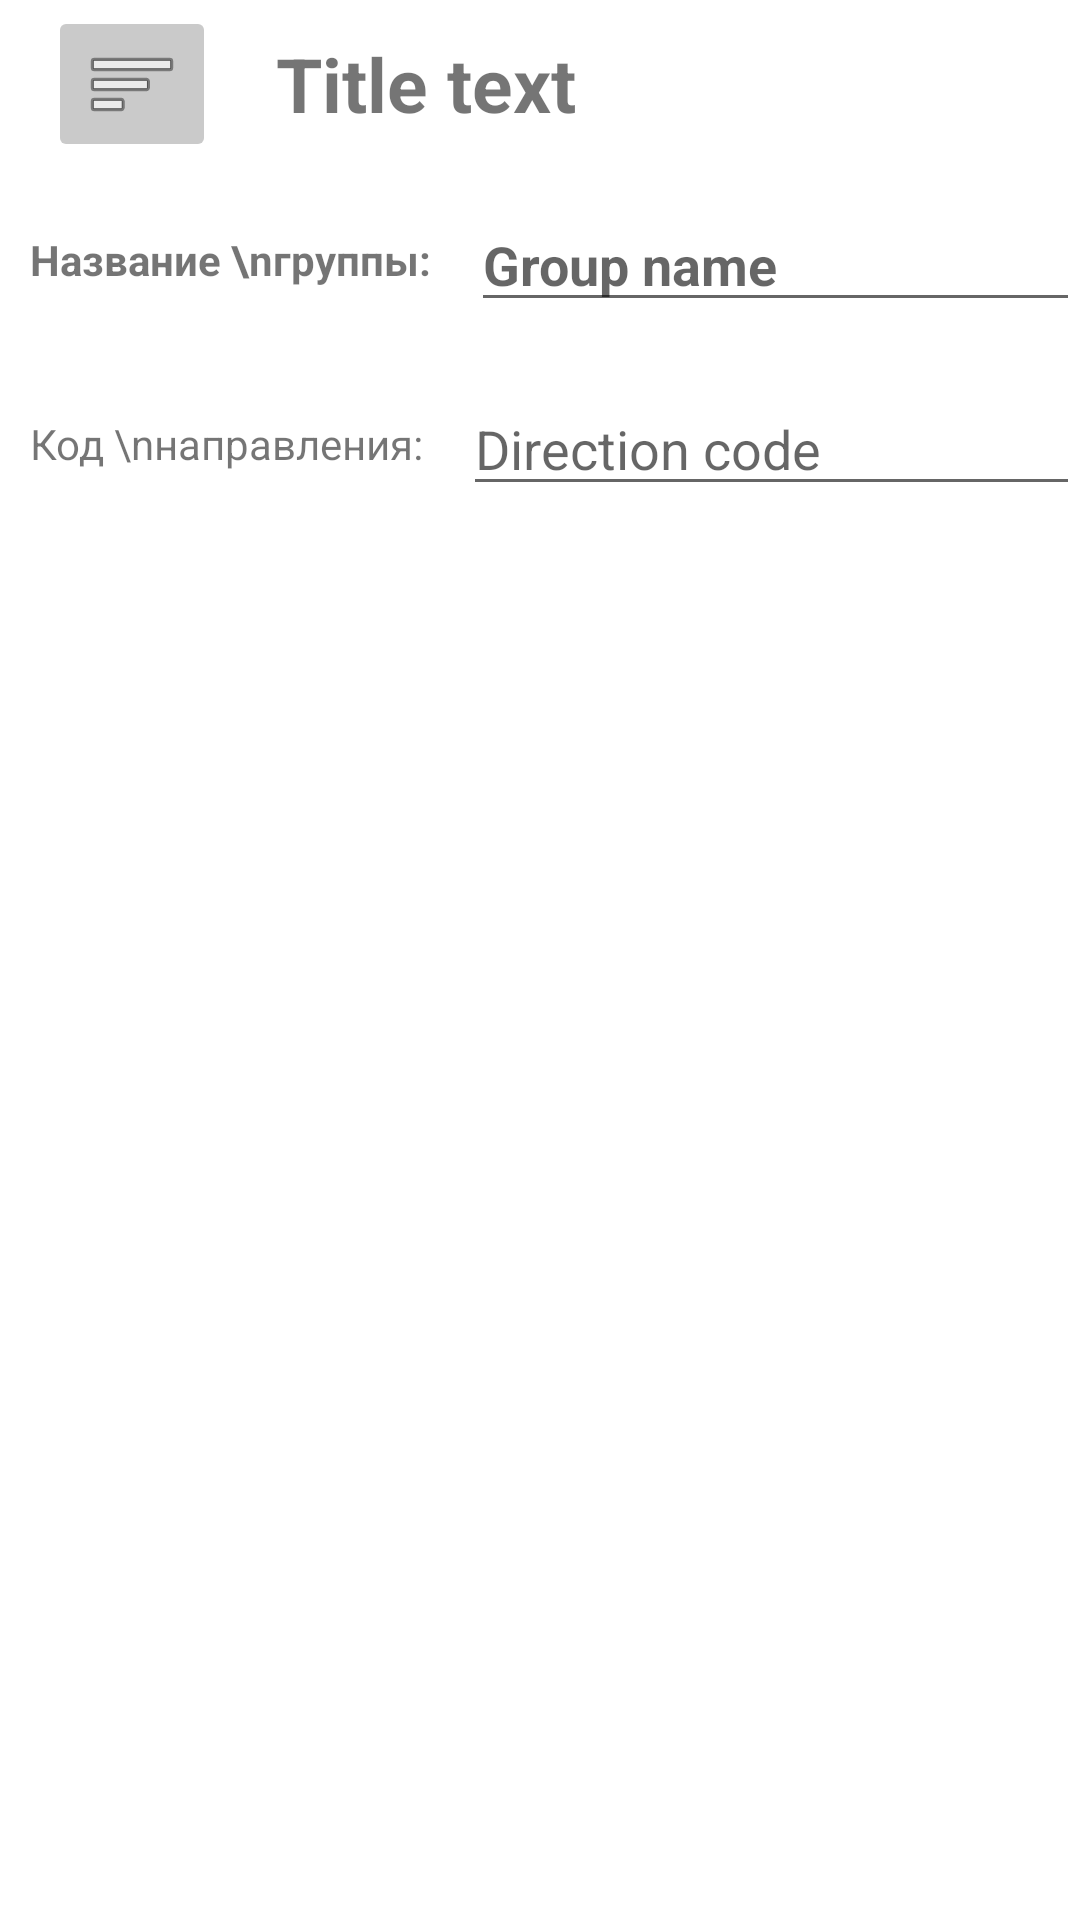

Icon click points for this 1080 x 1920 phone screenshot, format (x,y):
sort by size: (132,84)
